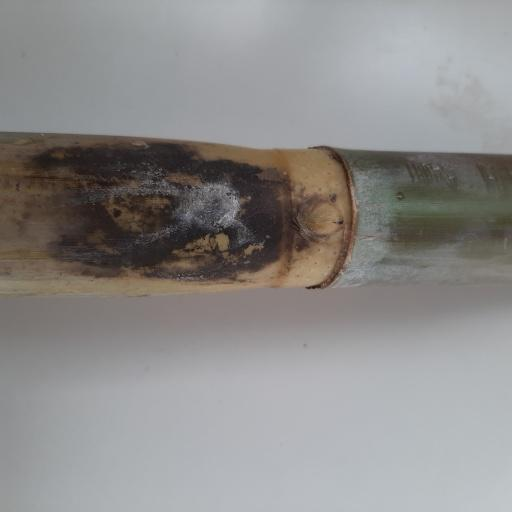Bud: (291, 197, 344, 240)
